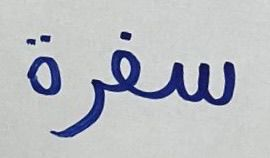ghain: (108, 27, 148, 102)
reh: (64, 70, 107, 141)
seen: (151, 53, 238, 109)
teh_marbota: (23, 25, 63, 98)
